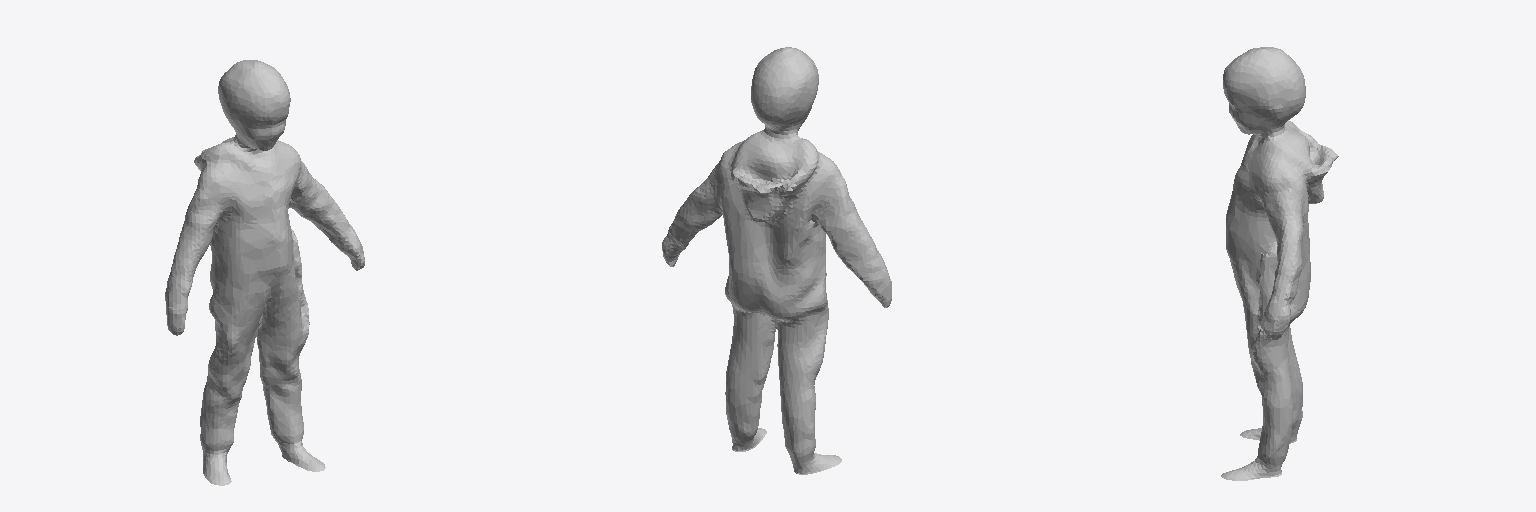
The model's file is leo2.obj.
3 renders of one model, left to right at view 1: azimuth 30°, elevation 25°; view 2: azimuth 150°, elevation 25°; view 3: azimuth 270°, elevation 25°, orthographic.
Visible parts, largest first — view 1: mesh_Mesh_main; view 2: mesh_Mesh_main; view 3: mesh_Mesh_main.
Boxes of the visible parts, x1,y1,x2,y2 form: mesh_Mesh_main: [165, 60, 364, 485]; mesh_Mesh_main: [662, 47, 891, 474]; mesh_Mesh_main: [1221, 47, 1338, 480].
Size of the model in its own units: 0.5981 by 1.1 by 0.2888.